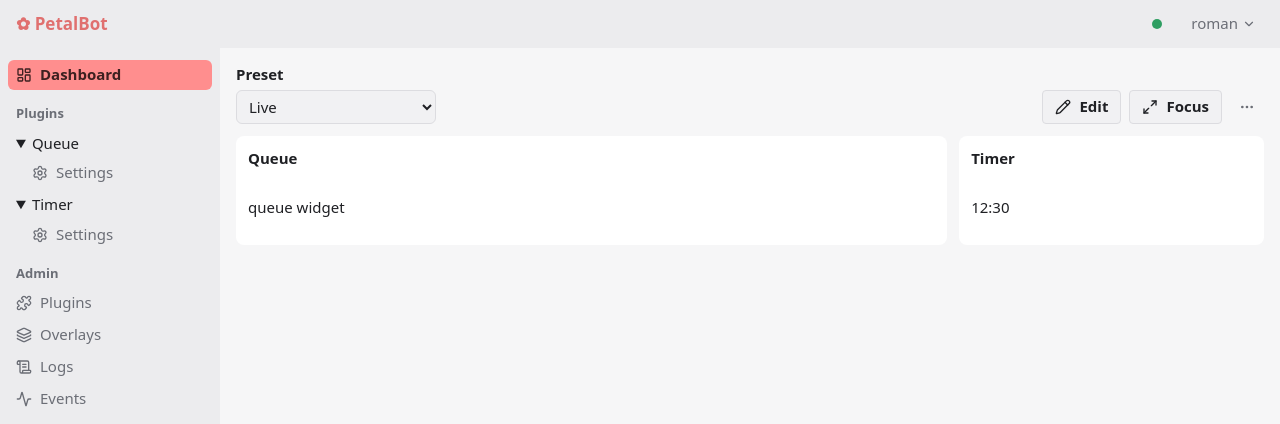
it: editing a preset › discards changes on Cancel
Check: the text "queue widget" is shown, box [248,196,345,216]
Click the button "Edit".
click(1082, 107)  # box [1042,90,1122,124]
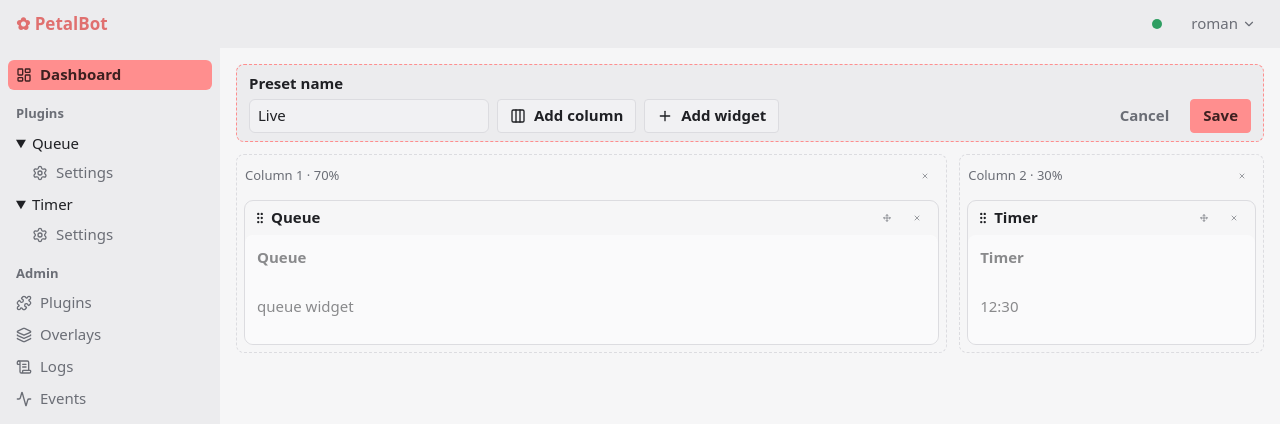
Check: the element named "Edit preset" is shown, box [236,64,1264,142]
Click the button named "Remove Queue".
click(917, 218)  # box [904,205,930,231]
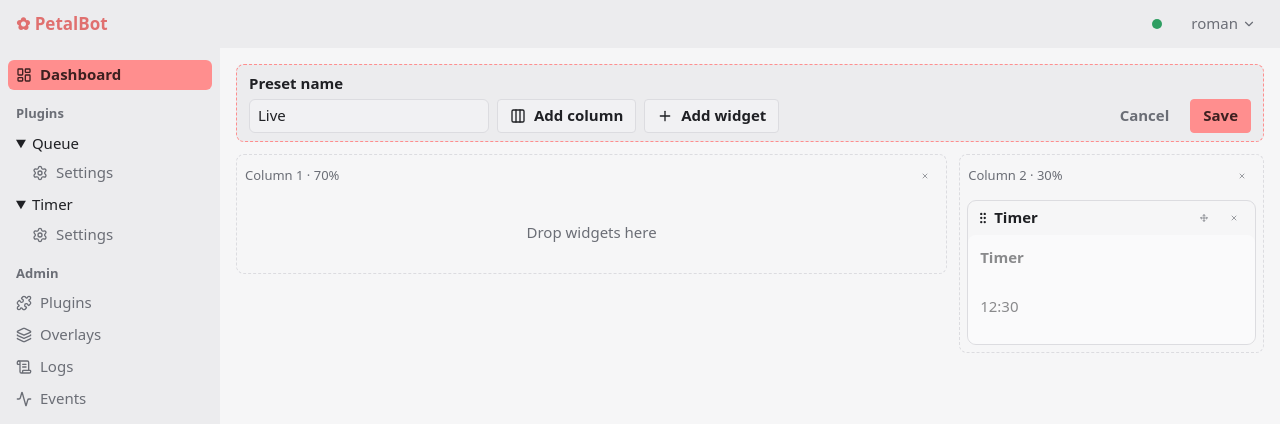
Click the button "Cancel".
click(1144, 116)  # box [1107,99,1182,133]
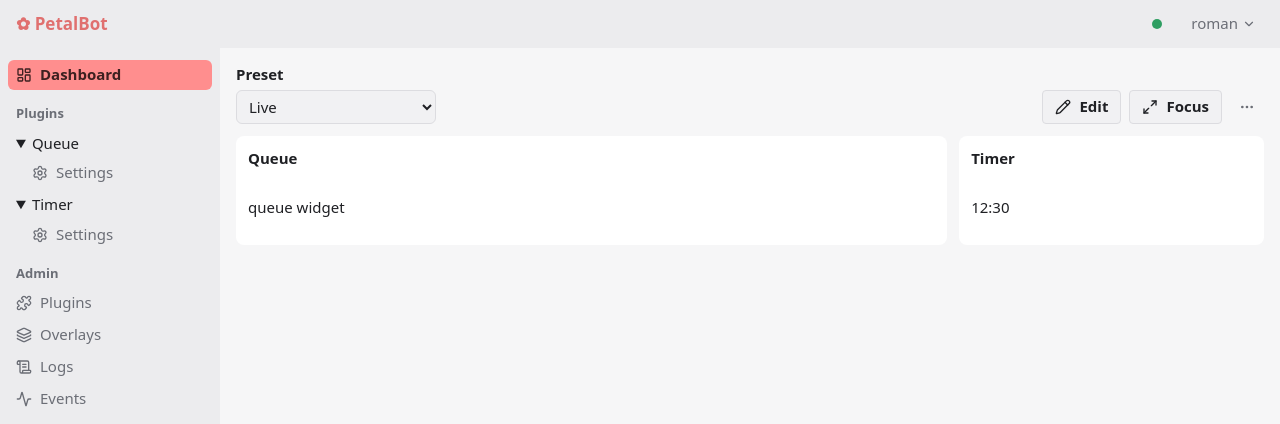
Check: the text "queue widget" is shown, box [248,196,345,216]
